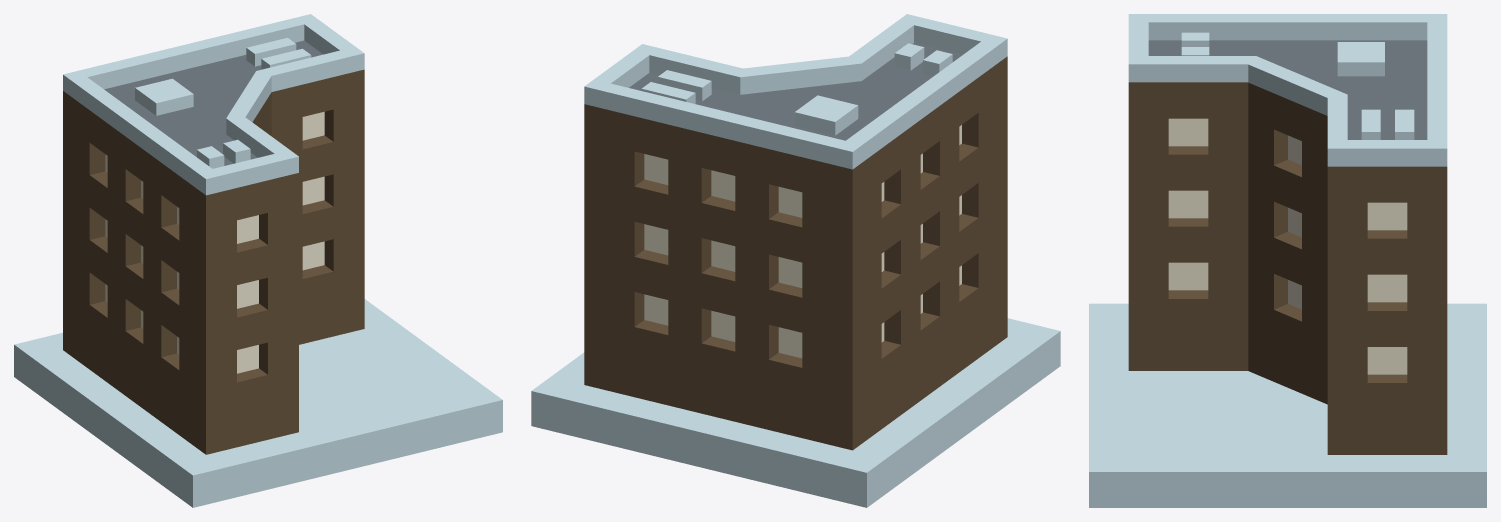
File: Building_8_Base_Extra (Brown).obj
3 views of the same model, side by side, from view 1: azimuth 30°, elevation 25°; view 2: azimuth 150°, elevation 25°; view 3: azimuth 270°, elevation 25° (orthographic). The views are drawn at different scales.
Parts seen in each view (by area): view 1: Building_8_Base_Extra_(Brown); view 2: Building_8_Base_Extra_(Brown); view 3: Building_8_Base_Extra_(Brown).
Boxes of the visible parts, <box> form: Building_8_Base_Extra_(Brown): <box>14,14,502,507</box>; Building_8_Base_Extra_(Brown): <box>531,14,1060,507</box>; Building_8_Base_Extra_(Brown): <box>1089,14,1486,507</box>.
Bounding box in the file's own units: 2 × 1.9 × 2.
